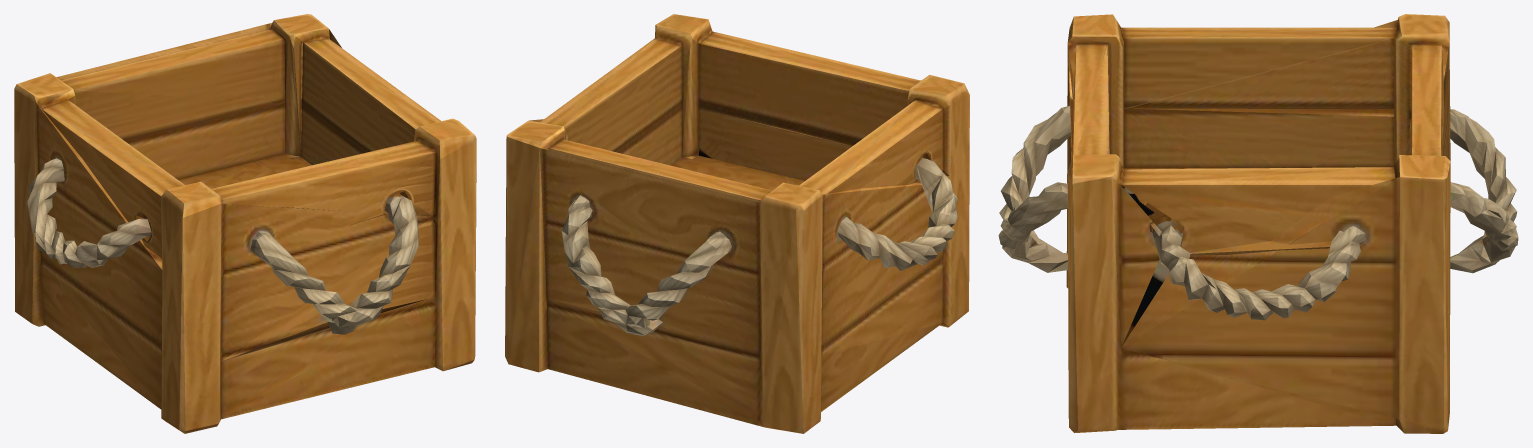
Rendered from crate.hq.glb.
3 views of the same model, side by side, from view 1: azimuth 30°, elevation 25°; view 2: azimuth 150°, elevation 25°; view 3: azimuth 270°, elevation 25° (orthographic). The views are drawn at different scales.
Visible parts, largest first — view 1: output_unwrapped; view 2: output_unwrapped; view 3: output_unwrapped.
Part boxes in pixels (x1=…): output_unwrapped: x1=14, y1=14, x2=476, y2=433; output_unwrapped: x1=505, y1=14, x2=969, y2=433; output_unwrapped: x1=998, y1=14, x2=1518, y2=433.
Size of the model in its own units: 1.88 by 1.05 by 1.89.
Materials: 1 (1 with a texture image).
